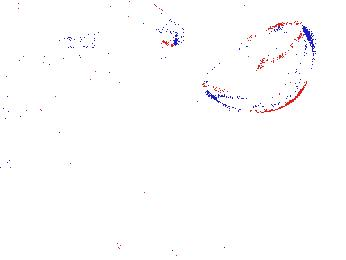moon jellyfish: (202, 21, 315, 113), (86, 1, 177, 48), (1, 60, 57, 115)
